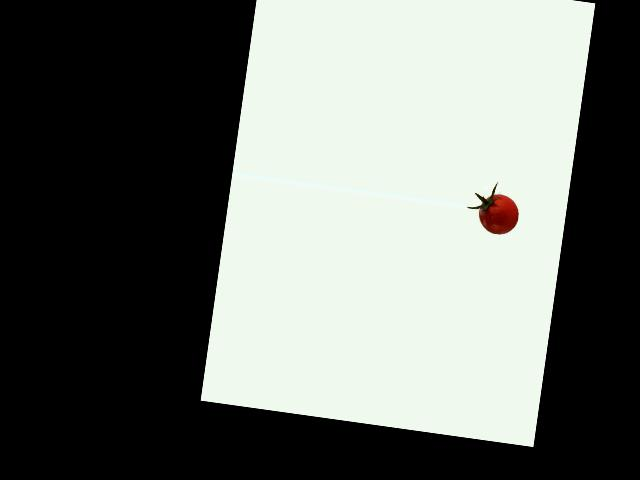tomato: (476, 192, 521, 237)
